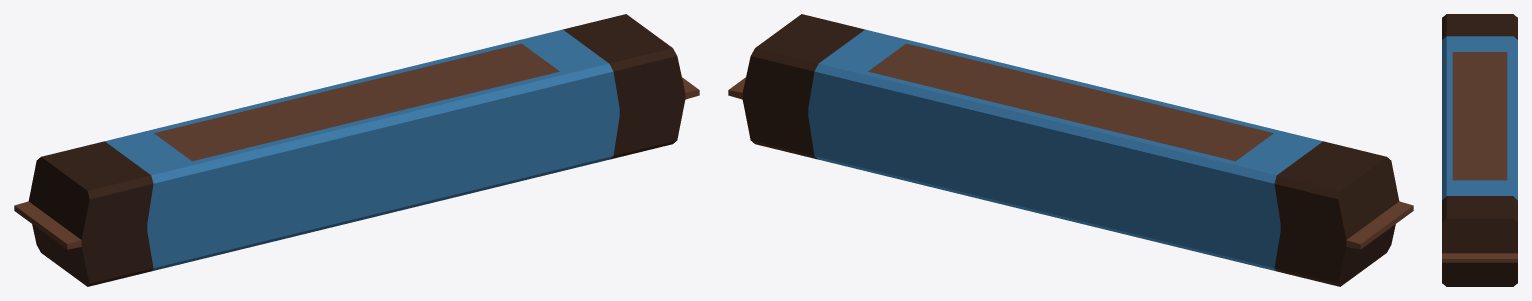
Rendered from Large Chocolate Bar.fbx.
3 views of the same model, side by side, from view 1: azimuth 30°, elevation 25°; view 2: azimuth 150°, elevation 25°; view 3: azimuth 270°, elevation 25° (orthographic). The views are drawn at different scales.
Parts seen in each view (by area): view 1: Large Chocolate Bar; view 2: Large Chocolate Bar; view 3: Large Chocolate Bar.
Boxes of the visible parts, x1,y1,x2,y2 form: Large Chocolate Bar: (14,14,699,286); Large Chocolate Bar: (728,14,1413,286); Large Chocolate Bar: (1442,14,1517,286).
Bounding box in the file's own units: 43.9 × 6.38 × 6.38.
1 material, 1 textured.
